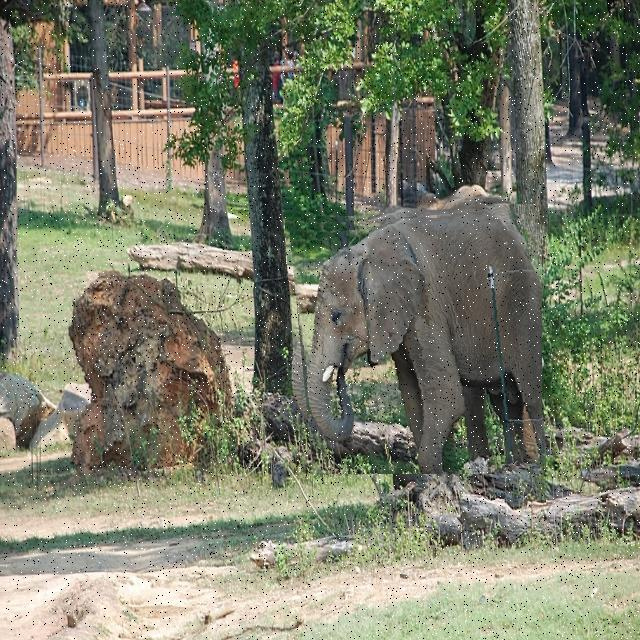elephant: (289, 207, 542, 474)
